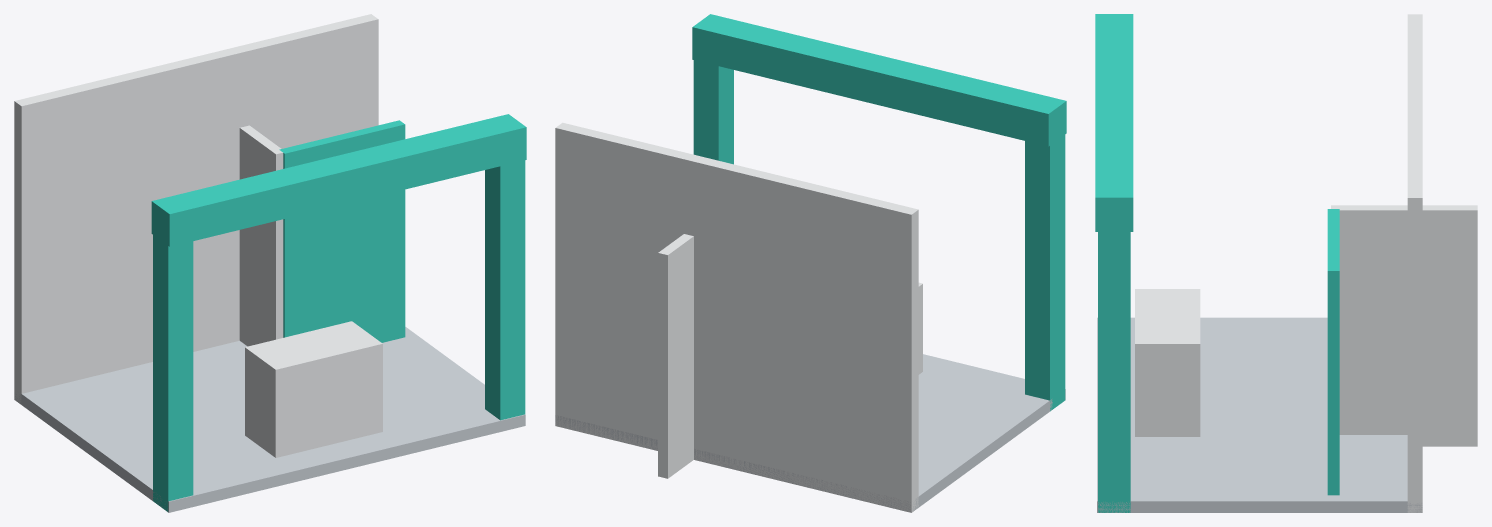
The picture shows the model from 3 angles, left to right: view 1: azimuth 30°, elevation 25°; view 2: azimuth 150°, elevation 25°; view 3: azimuth 270°, elevation 25°; orthographic projection. The views are drawn at different scales.
Visible parts, largest first — view 1: Exhibition Booth Concept; view 2: Exhibition Booth Concept; view 3: Exhibition Booth Concept.
Boxes of the visible parts, x1,y1,x2,y2 form: Exhibition Booth Concept: (14, 14, 526, 512); Exhibition Booth Concept: (555, 14, 1066, 512); Exhibition Booth Concept: (1095, 14, 1477, 512).
Size of the model in its own units: 4 by 3.2 by 3.52.
